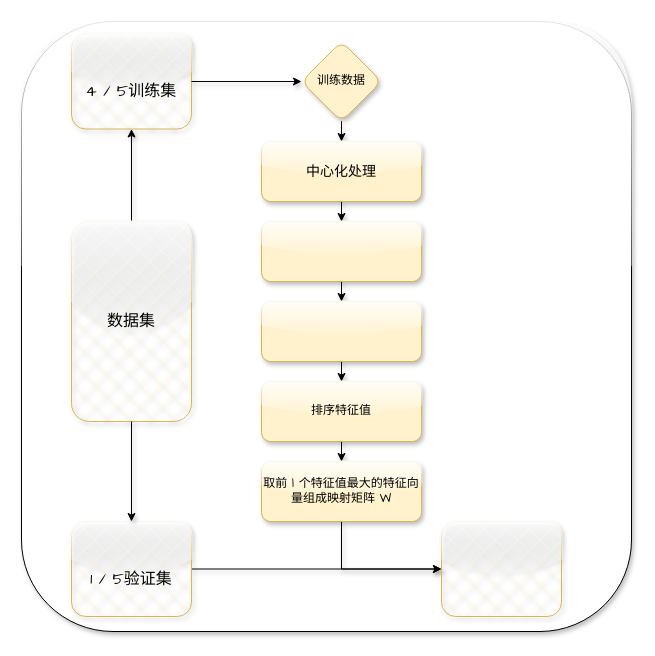
Image size: 655x656. Some labels were removed from this diagram. Each missing label, with the centre of its shape:
Result: point 502,570
计算协方差矩阵: point 342,252
计算特征值和特征向量: point 342,332
